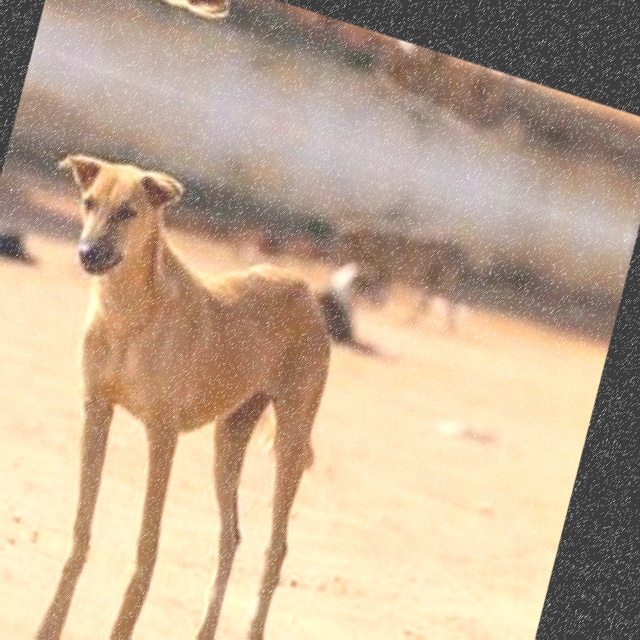dog: (0, 114, 434, 625), (80, 0, 477, 124), (0, 521, 331, 640)
